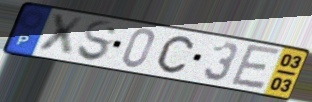0: (121, 27, 157, 69)
3: (203, 41, 239, 84)
C: (155, 34, 195, 75)
E: (228, 42, 283, 91)
S: (76, 20, 120, 64)
X: (36, 13, 86, 58)
